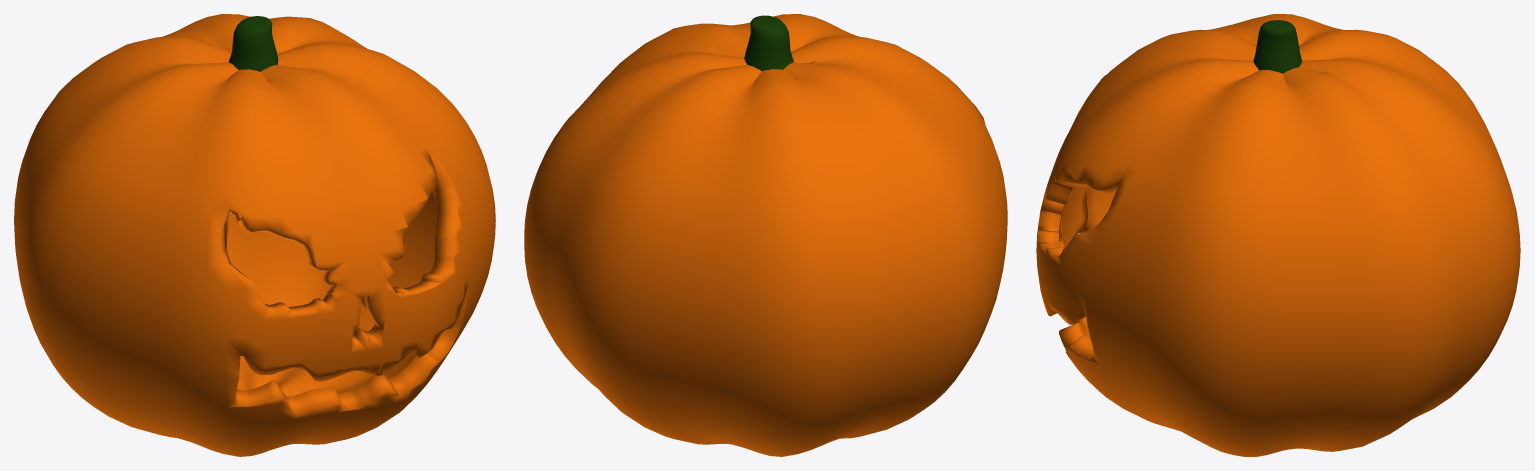
Rendered from Head_Halloween.fbx.
3 renders of one model, left to right at view 1: azimuth 30°, elevation 25°; view 2: azimuth 150°, elevation 25°; view 3: azimuth 270°, elevation 25°, orthographic.
Parts seen in each view (by area): view 1: Head_Halloween; view 2: Head_Halloween; view 3: Head_Halloween.
Part boxes in pixels (bbox=[...]): Head_Halloween: bbox=[14, 14, 495, 456]; Head_Halloween: bbox=[524, 14, 1007, 456]; Head_Halloween: bbox=[1036, 14, 1520, 456].
Size of the model in its own units: 110 by 101 by 109.
